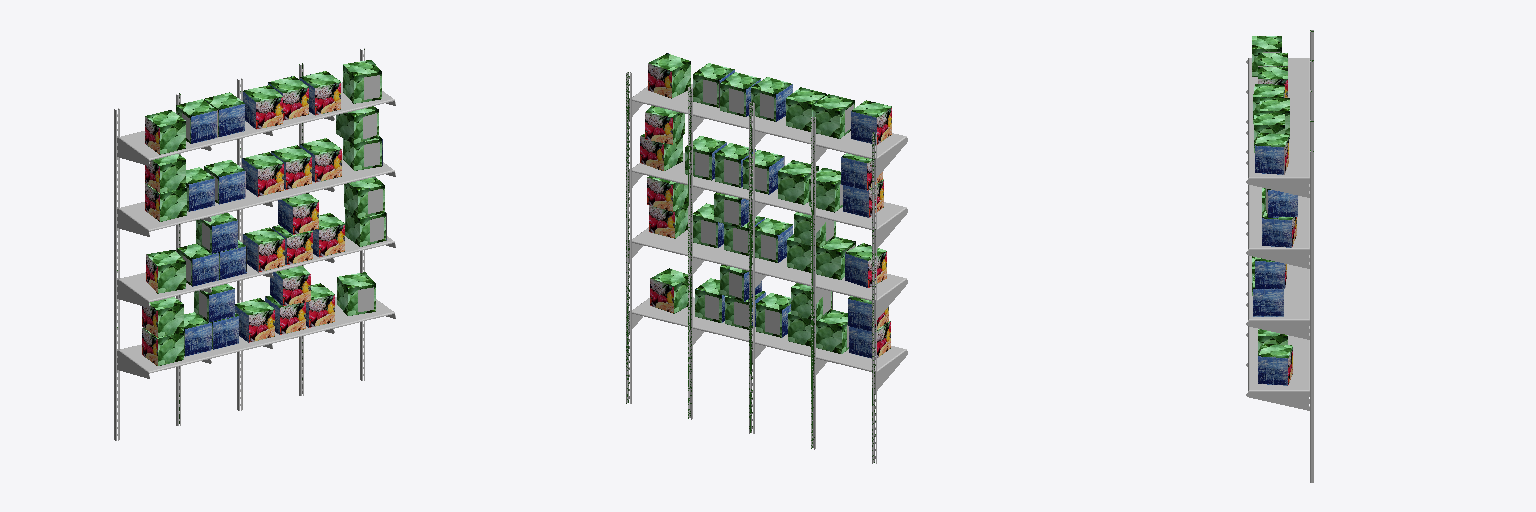
3 renders of one model, left to right at view 1: azimuth 30°, elevation 25°; view 2: azimuth 150°, elevation 25°; view 3: azimuth 270°, elevation 25°, orthographic.
Parts seen in each view (by area): view 1: instance_0, instance_58.001, instance_45.001, instance_54.001, instance_40.001, instance_60.001, instance_29.001, instance_46.001, instance_37.001, instance_64.001, instance_57.001, instance_53.001 (+25 smaller); view 2: instance_0, instance_62.001, instance_58.001, instance_32.001, instance_45.001, instance_59.001, instance_63.001, instance_49.001, instance_34.001, instance_47.001, instance_44.001, instance_61.001 (+23 smaller); view 3: instance_0, instance_32.001, instance_62.001, instance_48.001, instance_47.001, instance_39.001, instance_63.001, instance_57.001, instance_58.001, instance_61.001, instance_56.001, instance_60.001.
Boxes of the visible parts, x1=… form: instance_0: x1=114, y1=48, x2=395, y2=440; instance_58.001: x1=145, y1=110, x2=185, y2=154; instance_45.001: x1=146, y1=250, x2=185, y2=293; instance_54.001: x1=242, y1=152, x2=283, y2=196; instance_40.001: x1=243, y1=227, x2=284, y2=272; instance_60.001: x1=243, y1=85, x2=282, y2=129; instance_29.001: x1=235, y1=298, x2=274, y2=342; instance_46.001: x1=278, y1=193, x2=318, y2=234; instance_37.001: x1=142, y1=297, x2=183, y2=337; instance_64.001: x1=270, y1=266, x2=310, y2=305; instance_57.001: x1=300, y1=71, x2=340, y2=115; instance_53.001: x1=145, y1=154, x2=185, y2=193; instance_0: x1=626, y1=72, x2=907, y2=463; instance_62.001: x1=648, y1=53, x2=690, y2=98; instance_58.001: x1=851, y1=100, x2=891, y2=144; instance_32.001: x1=650, y1=268, x2=687, y2=313; instance_45.001: x1=845, y1=243, x2=886, y2=287; instance_59.001: x1=813, y1=94, x2=854, y2=138; instance_63.001: x1=645, y1=106, x2=684, y2=144; instance_49.001: x1=778, y1=160, x2=818, y2=204; instance_34.001: x1=816, y1=310, x2=848, y2=353; instance_47.001: x1=647, y1=176, x2=687, y2=211; instance_44.001: x1=816, y1=237, x2=855, y2=279; instance_61.001: x1=786, y1=87, x2=826, y2=131; instance_0: x1=1246, y1=30, x2=1313, y2=482; instance_32.001: x1=1258, y1=344, x2=1292, y2=385; instance_62.001: x1=1255, y1=133, x2=1288, y2=174; instance_48.001: x1=1262, y1=209, x2=1296, y2=247; instance_47.001: x1=1255, y1=257, x2=1286, y2=288; instance_39.001: x1=1253, y1=276, x2=1283, y2=316; instance_63.001: x1=1265, y1=188, x2=1297, y2=217; instance_57.001: x1=1254, y1=113, x2=1284, y2=152; instance_58.001: x1=1252, y1=36, x2=1281, y2=76; instance_61.001: x1=1258, y1=67, x2=1287, y2=97; instance_56.001: x1=1260, y1=98, x2=1289, y2=138; instance_60.001: x1=1253, y1=84, x2=1284, y2=123.
Size of the model in its own units: 1.45 by 1.83 by 0.3366.
5 materials, 1 textured.